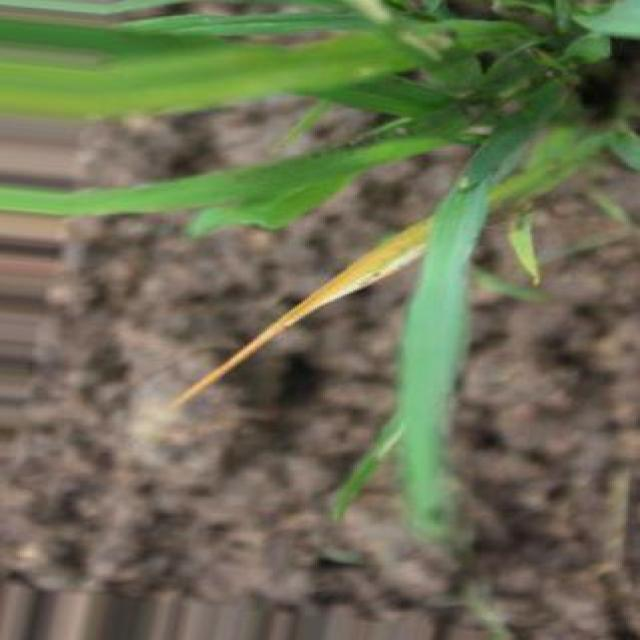Rice Tungro: (167, 219, 431, 408)
